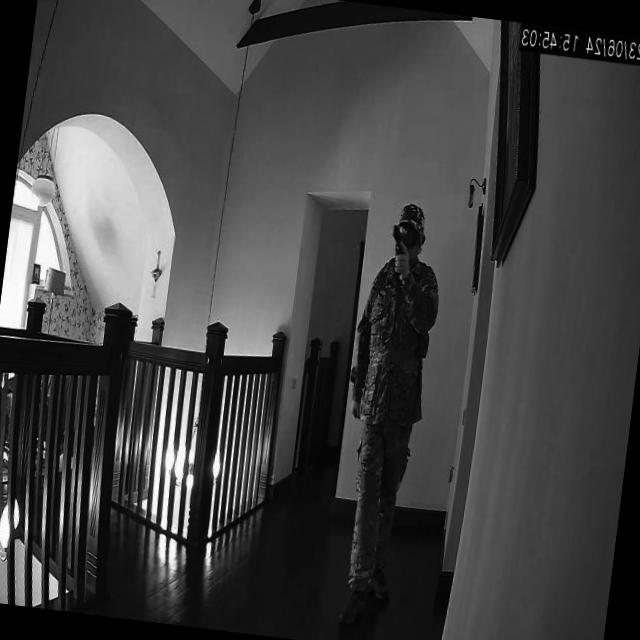gun: (387, 222, 414, 267)
person with a gun: (322, 197, 447, 640)
